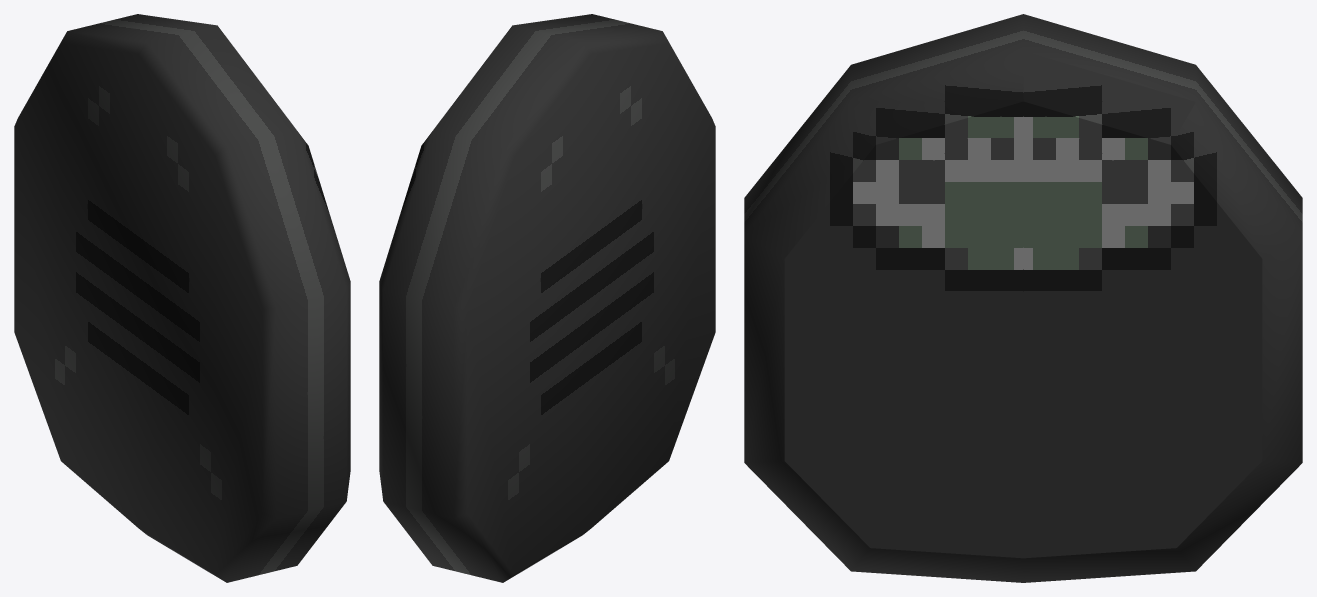
File: CDPlayer_Hand.fbx
The picture shows the model from 3 angles, left to right: view 1: azimuth 30°, elevation 25°; view 2: azimuth 150°, elevation 25°; view 3: azimuth 270°, elevation 25°; orthographic projection. The views are drawn at different scales.
Parts seen in each view (by area): view 1: CDplayer; view 2: CDplayer; view 3: CDplayer.
Part boxes in pixels (x1,y1,x2,y2): CDplayer: (14,14,350,582); CDplayer: (379,14,715,582); CDplayer: (744,14,1302,582).
Size of the model in its own units: 0.0258 by 0.1193 by 0.1135.
